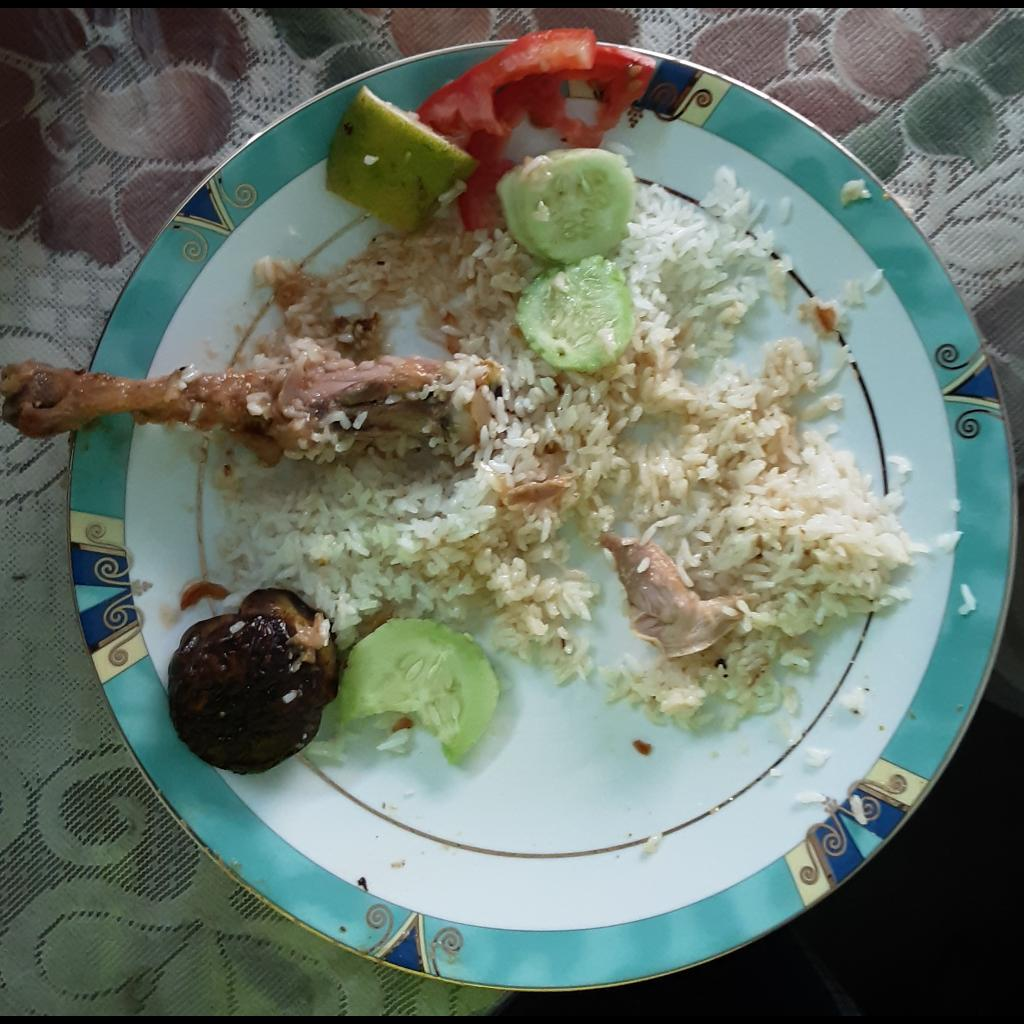beef: (601, 526, 759, 664), (507, 481, 564, 507)
begun-vaji: (169, 589, 339, 774)
chicken: (2, 275, 500, 472)
cucumber: (494, 144, 634, 373), (333, 619, 500, 769)
lemon: (323, 87, 478, 237)
rice: (210, 164, 963, 729), (791, 740, 868, 838), (842, 679, 868, 716), (844, 175, 871, 207), (960, 579, 975, 614)
tomato: (417, 26, 655, 236)
